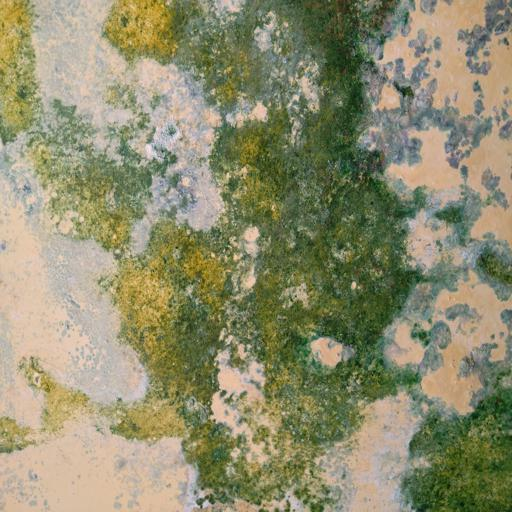algae: (25, 7, 512, 512)
